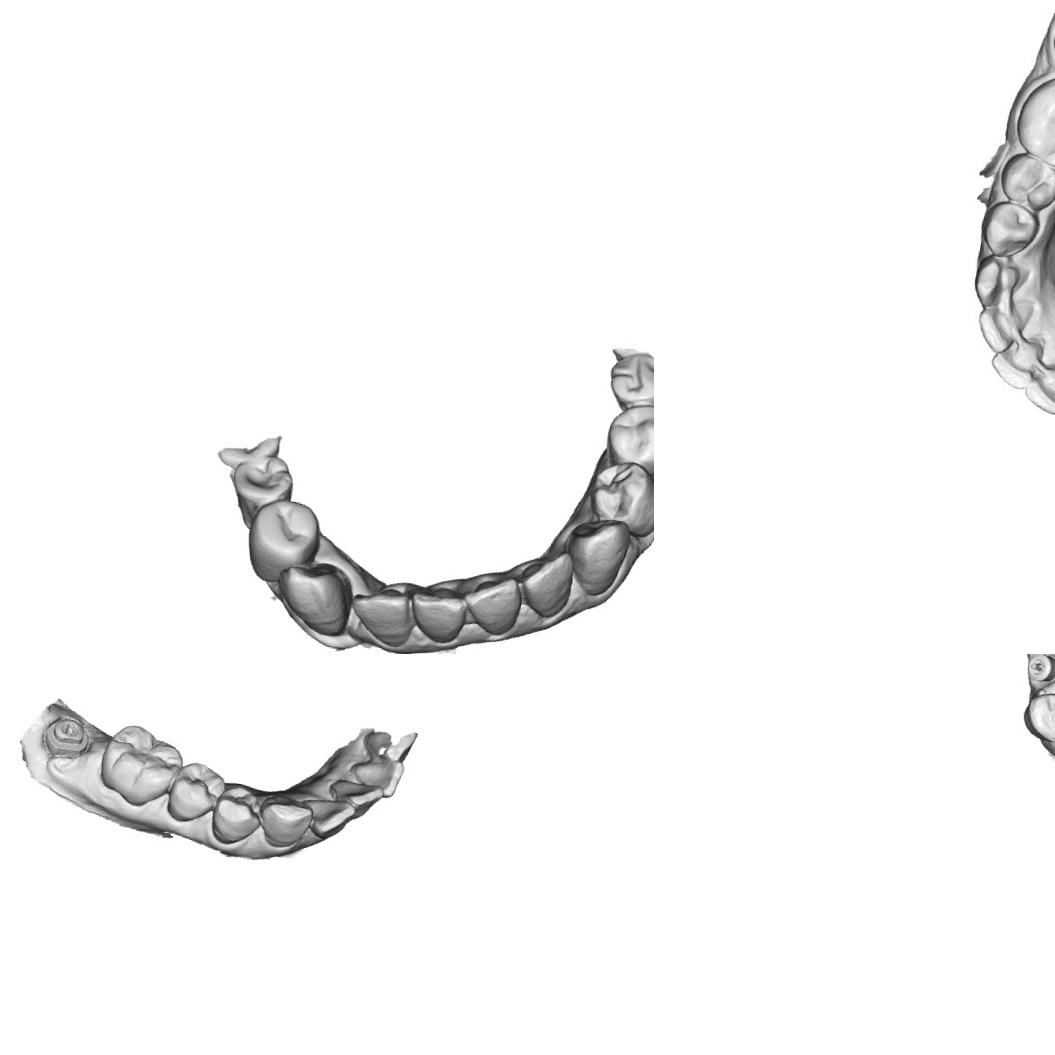canine: (271, 555, 358, 643), (560, 514, 632, 600), (254, 790, 316, 853), (975, 256, 1023, 309)
implant_minus: (36, 710, 94, 763)
implant_plus: (1022, 654, 1055, 686)
incisor: (514, 548, 580, 625), (344, 584, 418, 652), (460, 570, 526, 642), (404, 582, 472, 650), (970, 295, 1024, 358), (986, 340, 1040, 392), (324, 776, 384, 820), (355, 752, 408, 800), (307, 795, 358, 843), (364, 722, 419, 764), (1024, 365, 1055, 420)
molar: (93, 720, 188, 813), (1012, 70, 1055, 169), (602, 345, 654, 412)
premolar: (242, 494, 327, 588), (587, 456, 654, 536), (228, 451, 298, 523), (164, 756, 229, 827), (601, 399, 654, 478), (208, 782, 268, 850), (983, 202, 1040, 258), (1002, 151, 1055, 210), (1019, 687, 1055, 747)
